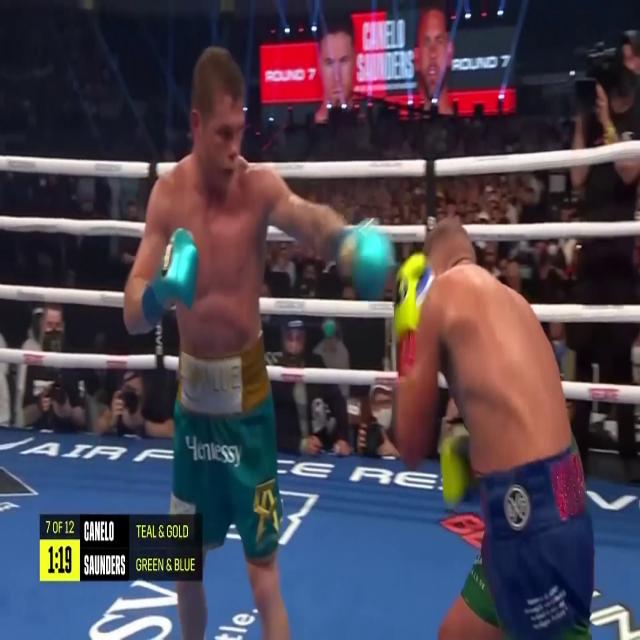boxer_1: (426, 218, 571, 475)
boxer_2: (160, 47, 272, 356)
gloves_1: (394, 253, 436, 378), (442, 435, 470, 504)
gloves_2: (143, 228, 198, 326), (330, 219, 394, 300)
